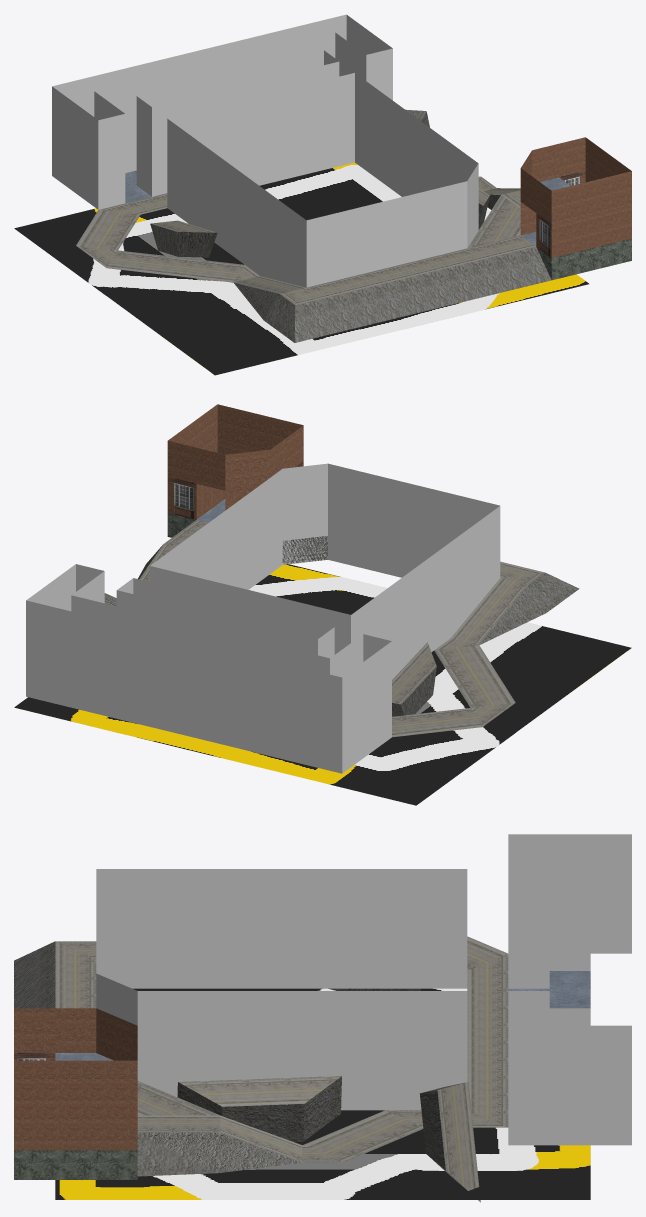
The model's file is map.fbx.
The picture shows the model from 3 angles, top to bottom: view 1: azimuth 30°, elevation 25°; view 2: azimuth 150°, elevation 25°; view 3: azimuth 270°, elevation 25°; orthographic projection. The views are drawn at different scales.
Parts seen in each view (by area): view 1: Walls, Plane, Road.004, Walls.001, Road, Road.001; view 2: Walls, Plane, Walls.001, Road.004, Road, Road.001; view 3: Walls, Plane, Walls.001, Road.004, Road, Road.002, Road.003, Inside1.
Boxes of the visible parts, <box> form: Walls: <box>52,14,478,287</box>; Plane: <box>14,162,588,375</box>; Road.004: <box>234,188,551,342</box>; Walls.001: <box>520,137,631,280</box>; Road: <box>76,176,496,282</box>; Road.001: <box>150,220,217,257</box>; Walls: <box>26,463,500,773</box>; Plane: <box>14,564,631,805</box>; Walls.001: <box>167,404,303,537</box>; Road.004: <box>138,520,579,645</box>; Road: <box>392,638,515,737</box>; Road.001: <box>392,642,436,716</box>; Walls: <box>96,834,631,1145</box>; Plane: <box>55,988,590,1199</box>; Walls.001: <box>14,1008,137,1179</box>; Road.004: <box>14,941,302,1176</box>; Road: <box>302,936,508,1162</box>; Road.002: <box>177,1076,341,1141</box>; Road.003: <box>419,1082,480,1202</box>; Inside1: <box>508,971,590,1008</box>.
Size of the model in its own units: 15000 by 4581 by 15000.
Materials: 7 (7 with a texture image).
